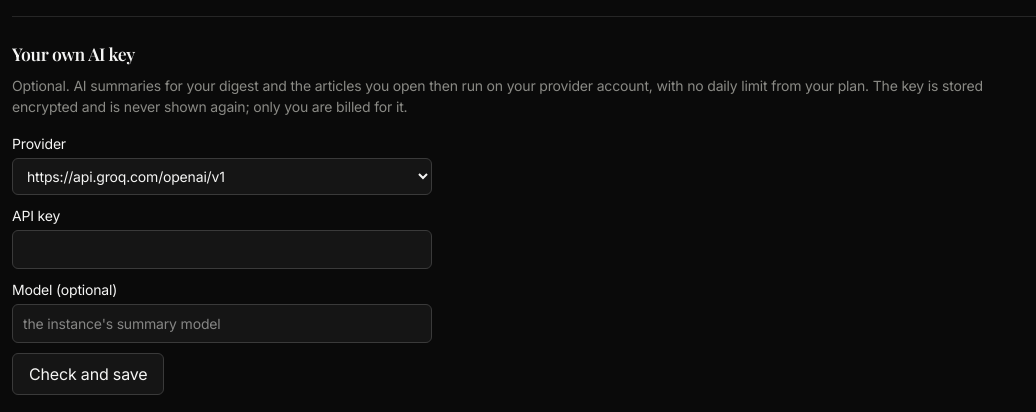
Test: own LLM key (#255) › saves a key and then shows only its last 4 characters
This screenshot has width=1036, height=412.
Type "sk-secret-123WXYZ" into the password field labelled "API key".
click(222, 250); type("sk-secret-123WXYZ")  # box [12,230,432,269]
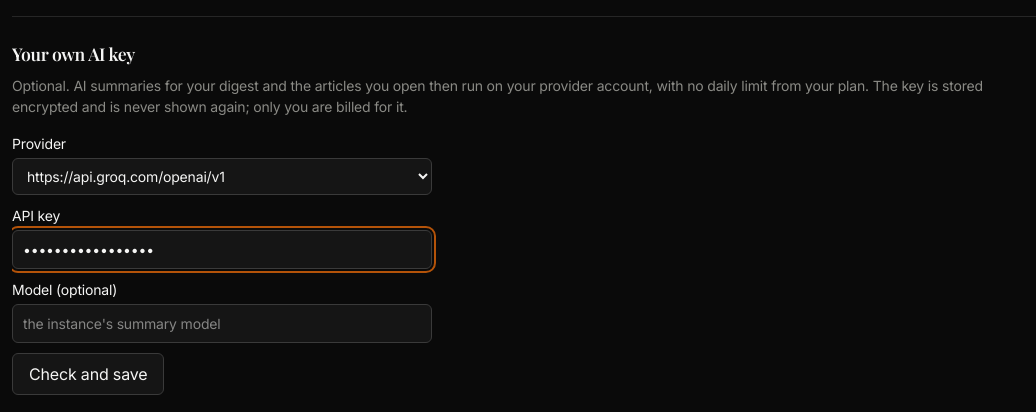
Click the button "Check and save".
click(88, 374)  # box [12,353,164,395]
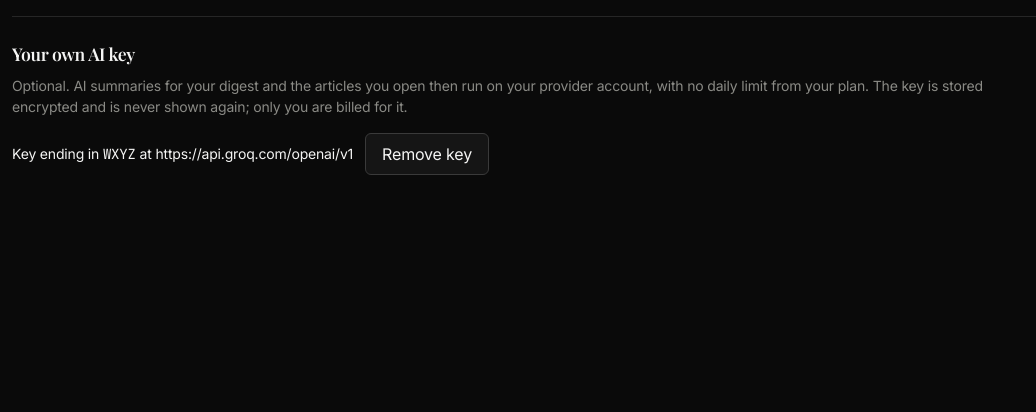
Expected: the text "WXYZ" is shown, [103,145,136,163]
